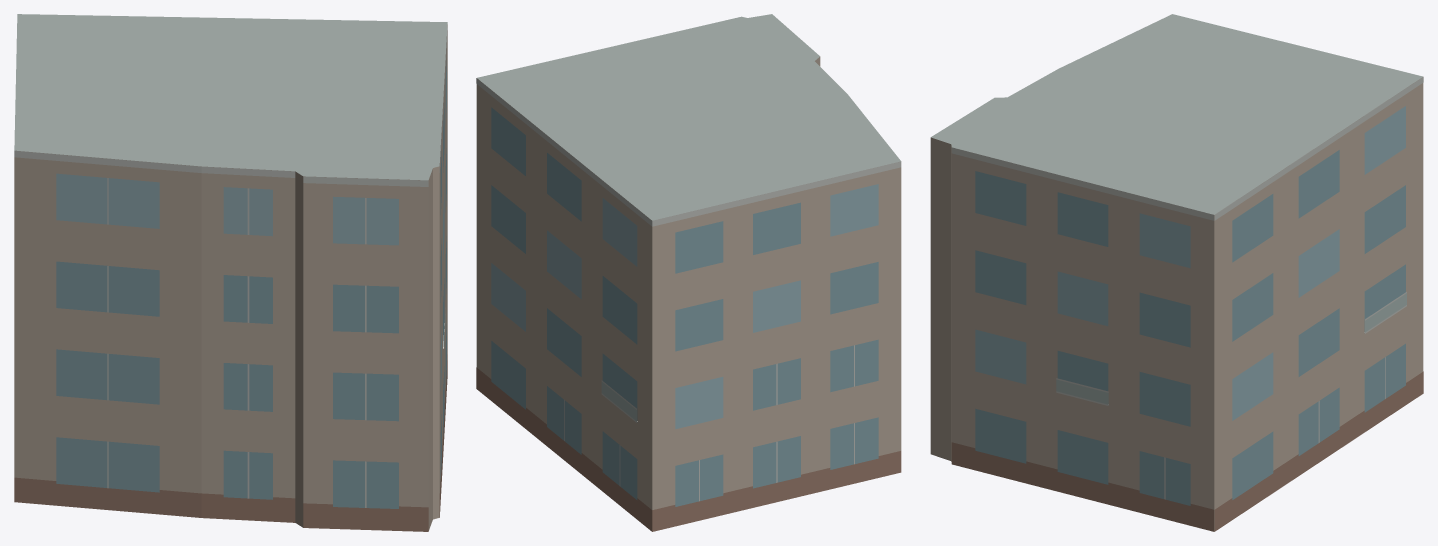
File: survey-upis-32833498.glb
The picture shows the model from 3 angles, left to right: view 1: azimuth 30°, elevation 25°; view 2: azimuth 150°, elevation 25°; view 3: azimuth 270°, elevation 25°; orthographic projection. The views are drawn at different scales.
Parts seen in each view (by area): view 1: survey-upis-32833498.tmp; view 2: survey-upis-32833498.tmp; view 3: survey-upis-32833498.tmp.
Part boxes in pixels (bbox=[...]): survey-upis-32833498.tmp: bbox=[14, 14, 447, 531]; survey-upis-32833498.tmp: bbox=[476, 14, 901, 531]; survey-upis-32833498.tmp: bbox=[930, 14, 1423, 531].
Bounding box in the file's own units: 17.41 × 12.8 × 18.05.
